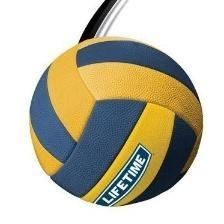Sports-Ball: (27, 36, 205, 213)
